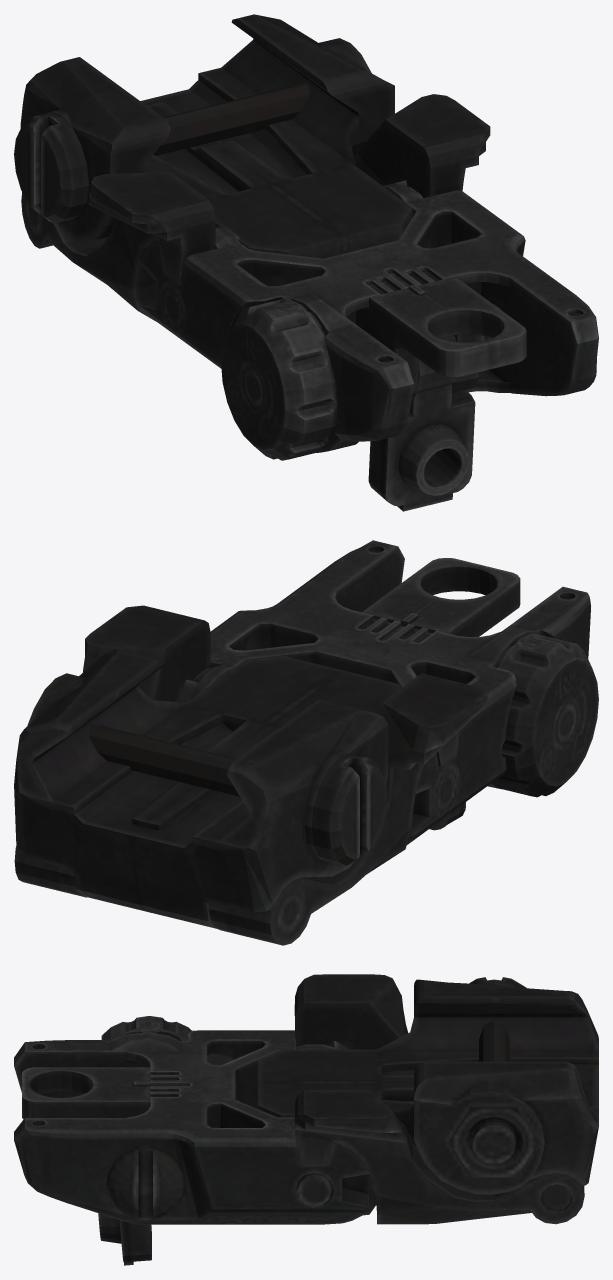
3 renders of one model, top to bottom at view 1: azimuth 30°, elevation 25°; view 2: azimuth 150°, elevation 25°; view 3: azimuth 270°, elevation 25°, orthographic. The views are drawn at different scales.
Visible parts, largest first — view 1: TW_5bc09a18d4351e003562b68e_folded_PZ_Import; view 2: TW_5bc09a18d4351e003562b68e_folded_PZ_Import; view 3: TW_5bc09a18d4351e003562b68e_folded_PZ_Import.
Boxes of the visible parts, <box> form: TW_5bc09a18d4351e003562b68e_folded_PZ_Import: <box>14,14,598,511</box>; TW_5bc09a18d4351e003562b68e_folded_PZ_Import: <box>14,540,598,945</box>; TW_5bc09a18d4351e003562b68e_folded_PZ_Import: <box>14,974,598,1265</box>.
Size of the model in its own units: 0.0209 by 0.0358 by 0.0152.
1 material, 1 textured.
